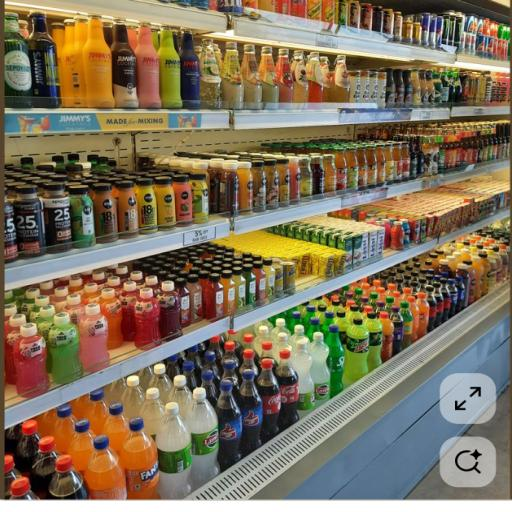coca_cola: (276, 355, 298, 430), (240, 349, 259, 377), (223, 341, 238, 367), (243, 334, 258, 360), (262, 341, 272, 357), (211, 335, 220, 343)
